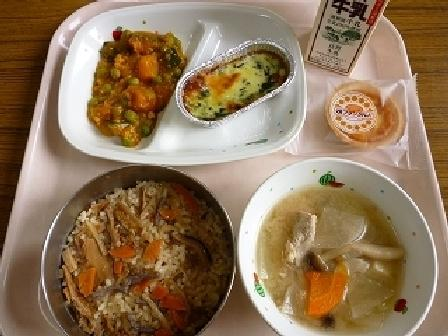Cup desserts: (298, 76, 429, 162)
Milk: (300, 0, 396, 71)
Mixed rice: (43, 158, 242, 332)
Soups: (239, 160, 440, 335)
casserole with meat and vegetables: (179, 33, 299, 133)
vegetable based cooked food: (70, 17, 184, 144)
